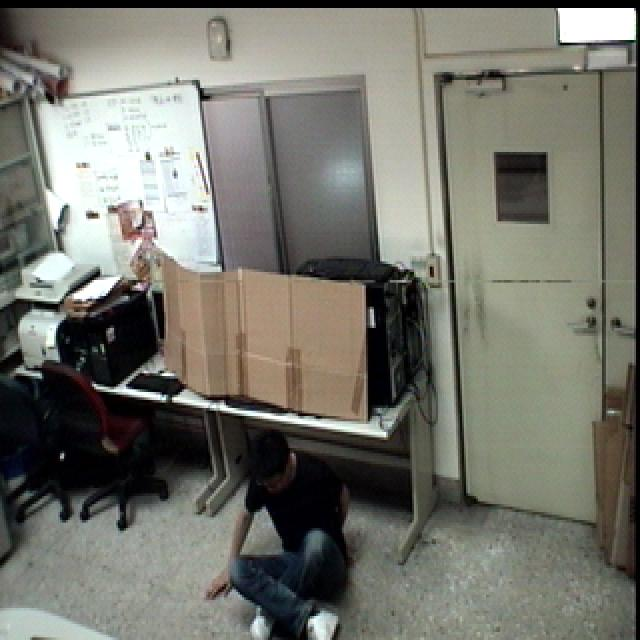sit: (202, 421, 366, 640)
